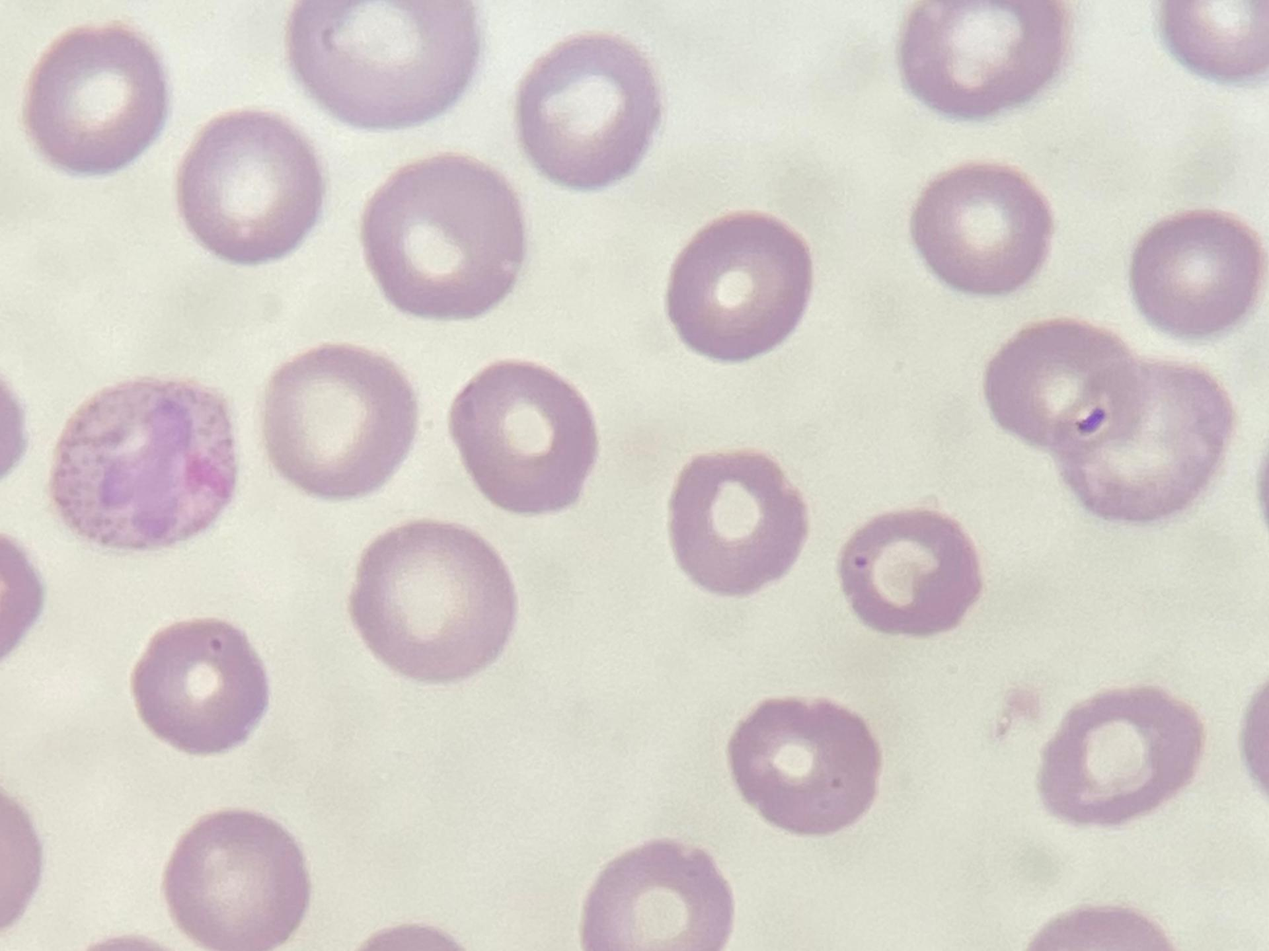Infected: (50, 379, 243, 553)
Uninfected: (1054, 361, 1237, 520), (360, 156, 527, 324), (350, 522, 516, 686), (261, 342, 418, 498), (288, 0, 483, 124), (1038, 684, 1204, 828), (664, 210, 816, 362), (449, 359, 596, 516), (985, 318, 1152, 454), (516, 32, 656, 193), (25, 23, 167, 177), (178, 113, 323, 263), (729, 696, 881, 835), (162, 810, 311, 951), (671, 451, 812, 600), (132, 618, 270, 757), (899, 0, 1058, 120), (839, 508, 985, 637), (912, 164, 1053, 295), (1130, 210, 1263, 338), (578, 840, 732, 946)
